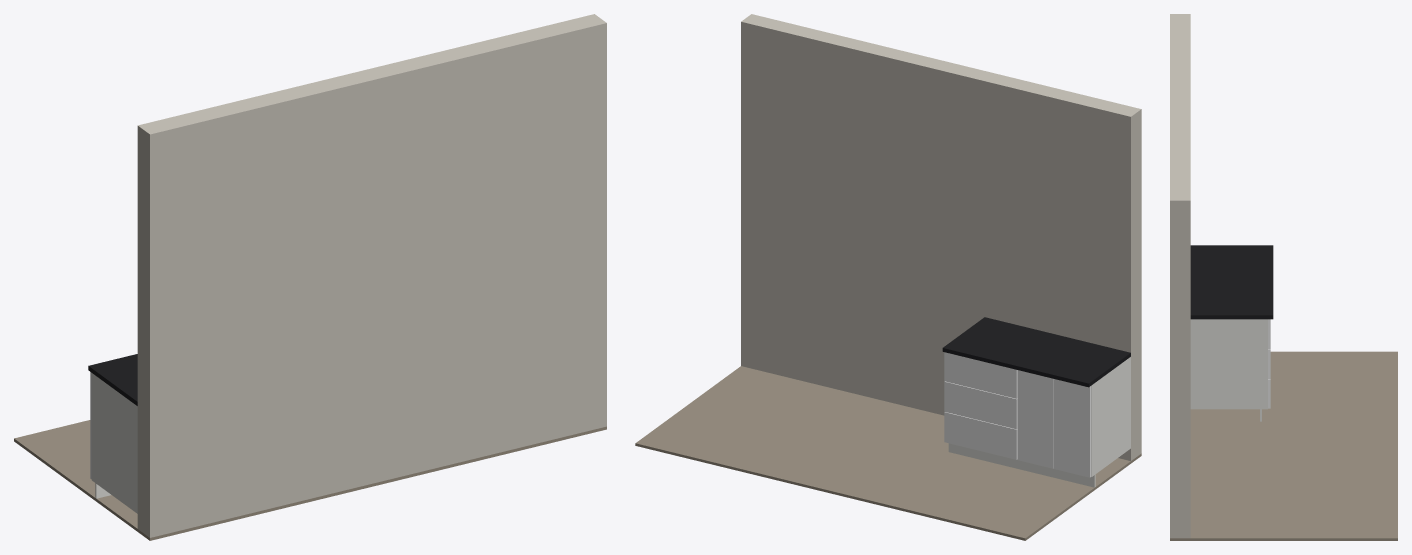
File: POC_Cozinha_01.dae
3 renders of one model, left to right at view 1: azimuth 30°, elevation 25°; view 2: azimuth 150°, elevation 25°; view 3: azimuth 270°, elevation 25°, orthographic. The views are drawn at different scales.
Parts seen in each view (by area): view 1: Parede_1, Piso, M01_base_cabinet_Lateral_Esquerda, M01_base_cabinet_Tampo; view 2: Parede_1, Piso, M01_base_cabinet_Tampo, M01_base_cabinet, M02_drawer_cabinet, M01_base_cabinet_Lateral_Esquerda, M01_base_cabinet_Rodape, M02_drawer_cabinet_Rodape; view 3: Piso, Parede_1, M02_drawer_cabinet_Lateral_Direita, M01_base_cabinet_Tampo.
Boxes of the visible parts, x1,y1,x2,y2 form: Parede_1: (137, 14, 606, 537); Piso: (14, 420, 606, 540); M01_base_cabinet_Lateral_Esquerda: (91, 373, 137, 513); M01_base_cabinet_Tampo: (88, 354, 137, 405); Parede_1: (741, 14, 1141, 460); Piso: (635, 366, 1141, 540); M01_base_cabinet_Tampo: (942, 317, 1130, 387); M01_base_cabinet: (1017, 370, 1091, 477); M02_drawer_cabinet: (944, 352, 1017, 459); M01_base_cabinet_Lateral_Esquerda: (1091, 357, 1130, 477); M01_base_cabinet_Rodape: (1021, 461, 1095, 487); M02_drawer_cabinet_Rodape: (948, 443, 1021, 469); Piso: (1170, 351, 1397, 540); Parede_1: (1170, 14, 1190, 538); M02_drawer_cabinet_Lateral_Direita: (1190, 319, 1267, 409); M01_base_cabinet_Tampo: (1190, 245, 1273, 319).
Bounding box in the file's own units: 3200 × 1650 × 2720.
